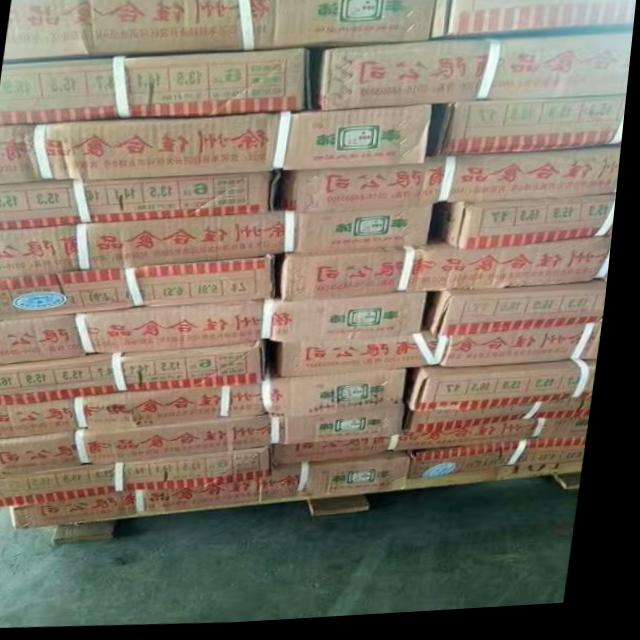box: (0, 109, 436, 184), (19, 455, 420, 530), (0, 210, 439, 278), (0, 297, 435, 365), (0, 410, 412, 477), (4, 0, 437, 62), (0, 375, 413, 439), (0, 50, 311, 125), (321, 40, 634, 112), (283, 151, 625, 215), (285, 243, 618, 306), (0, 258, 282, 321), (0, 343, 274, 405), (0, 450, 283, 510), (0, 176, 287, 230), (284, 333, 609, 380), (280, 424, 598, 467), (437, 105, 629, 161), (442, 286, 614, 344), (446, 200, 621, 255), (416, 367, 605, 417), (433, 0, 638, 43), (409, 444, 596, 483), (416, 406, 601, 438)
